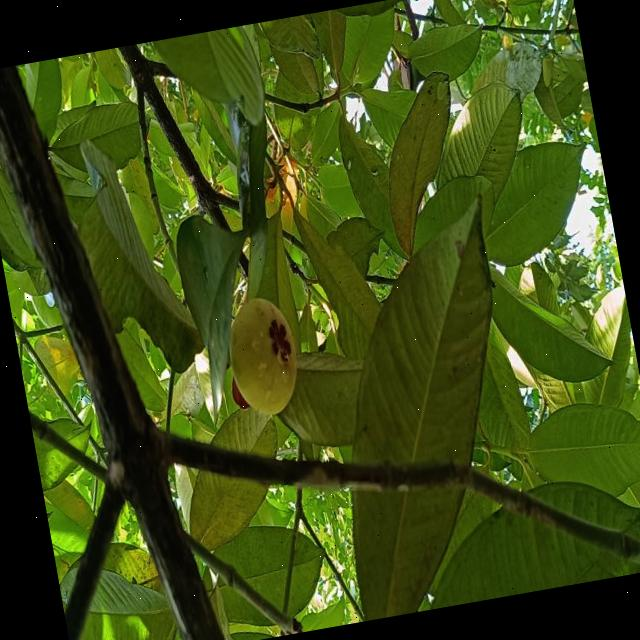mangosteen: (196, 284, 324, 446)
